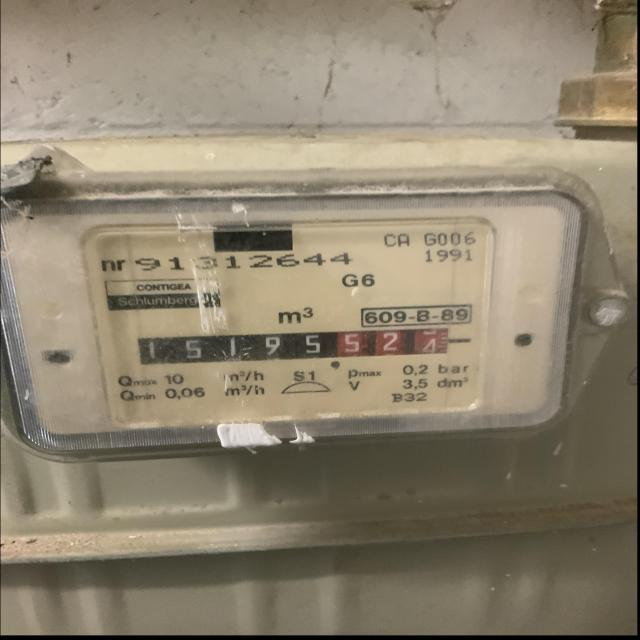gaz_meter: (87, 228, 478, 410)
indication: (135, 328, 454, 366)
